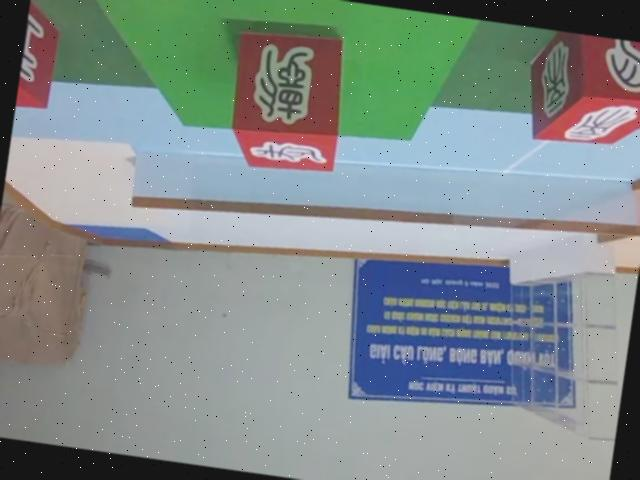R2 Fake: (219, 22, 358, 182), (516, 27, 640, 157), (14, 0, 70, 121)
